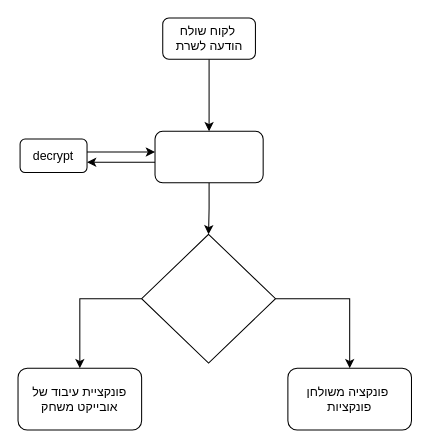
Image size: 430x448. Some labels were removed from this diagram. The centre of each missing label's shape, as x and y in pixels:
mainLoop: [208,156]
המשתמש נמצע ? כרגע במשחק: [208,298]
